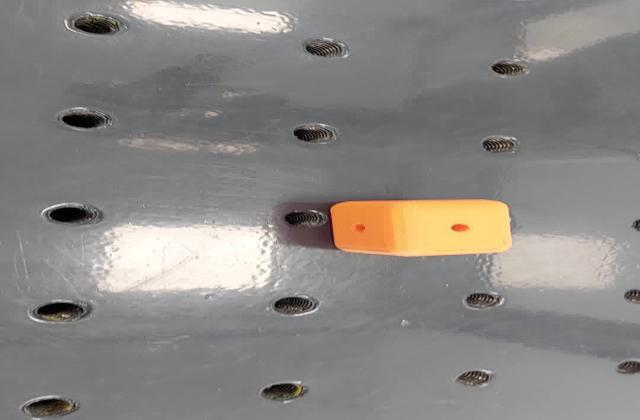cube: (326, 199, 522, 258)
